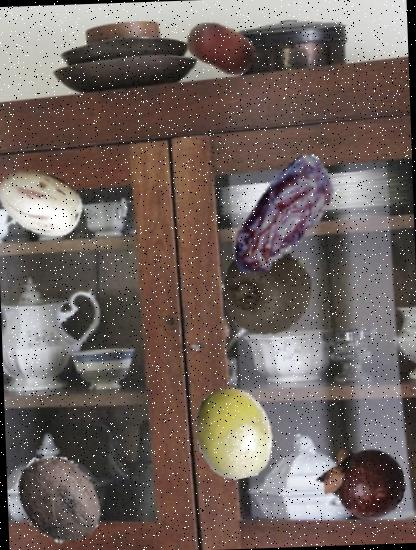Cocos: (11, 451, 108, 548)
Dates: (213, 147, 356, 289)
Kiwi: (218, 242, 313, 337)
Mangostan: (317, 435, 408, 526)
Maracuja: (187, 386, 282, 482)
Nectarine: (184, 11, 258, 86)
Pepino: (0, 156, 87, 247)
